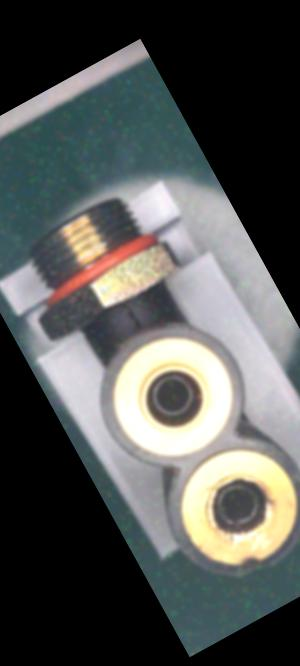bump: (225, 542, 275, 587)
craze: (112, 293, 151, 337)
